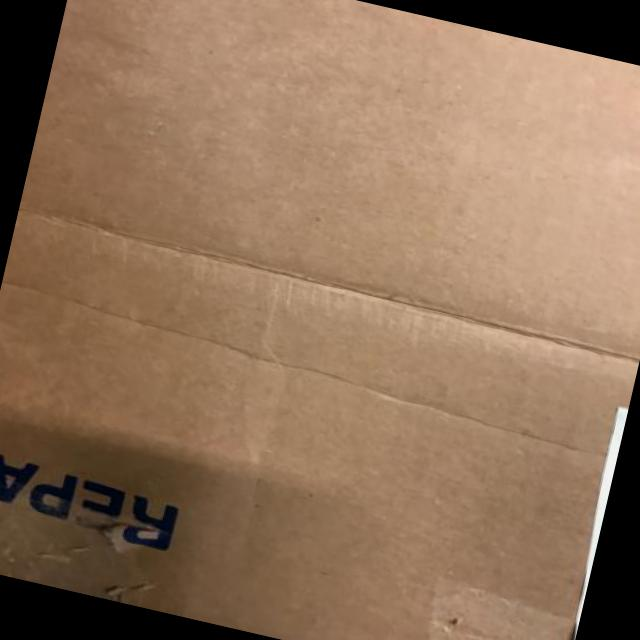cardboard: (0, 0, 639, 639)
paper: (572, 408, 627, 639)
